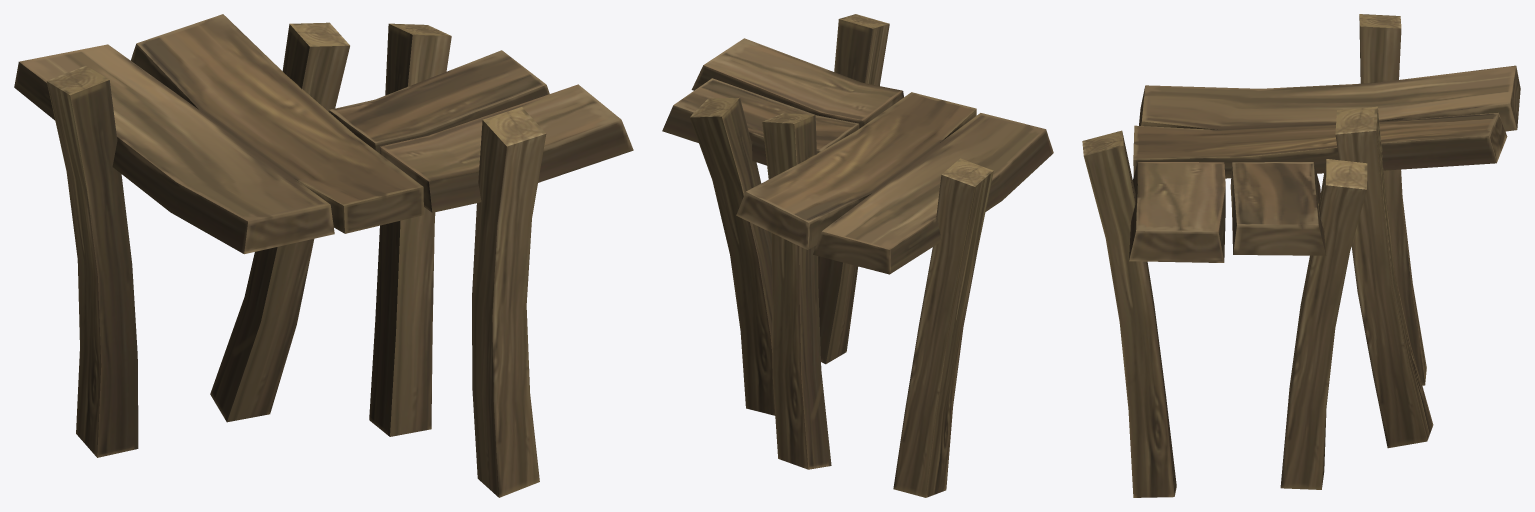
File: scaffolding_corner.fbx
3 views of the same model, side by side, from view 1: azimuth 30°, elevation 25°; view 2: azimuth 150°, elevation 25°; view 3: azimuth 270°, elevation 25° (orthographic). The views are drawn at different scales.
Visible parts, largest first — view 1: scaffolding_corner; view 2: scaffolding_corner; view 3: scaffolding_corner.
Boxes of the visible parts, x1,y1,x2,y2 form: scaffolding_corner: [14, 14, 633, 497]; scaffolding_corner: [662, 14, 1053, 497]; scaffolding_corner: [1082, 14, 1520, 497].
Bounding box in the file's own units: 285 × 243 × 276.
